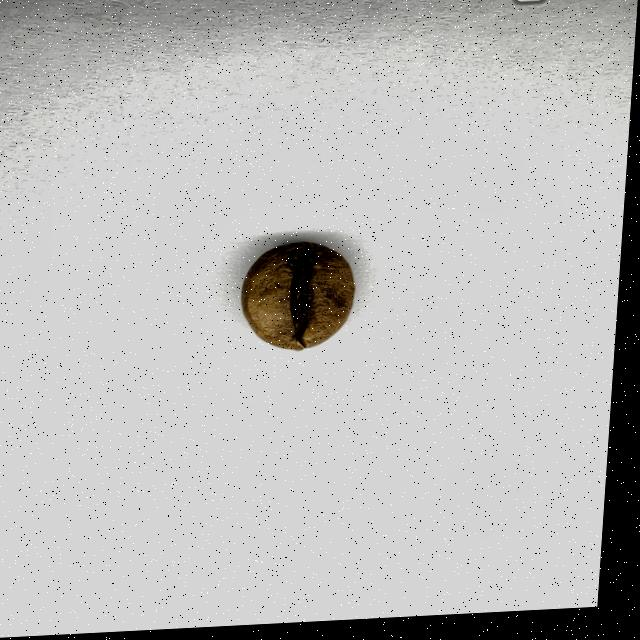Quaker: (241, 243, 363, 358)
